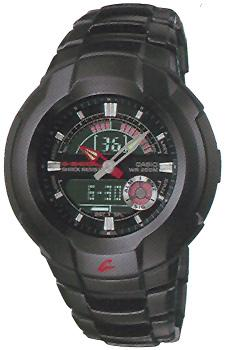watch: (13, 47, 209, 282)
